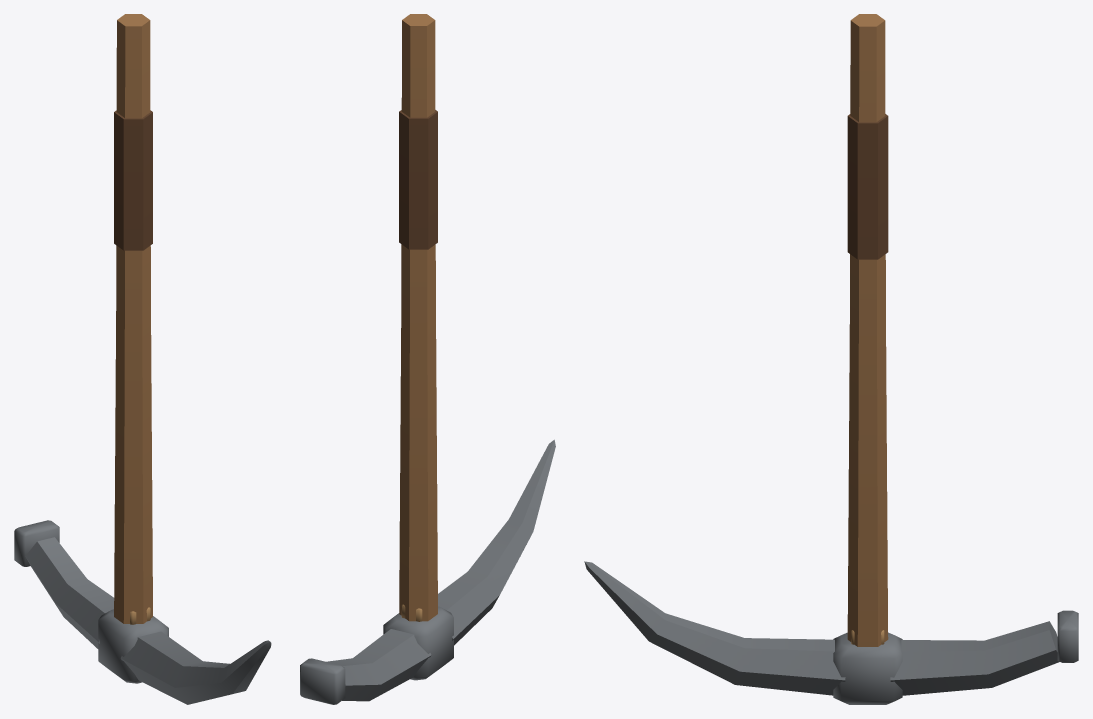
Rendered from pickaxe-1.glb.
The picture shows the model from 3 angles, left to right: view 1: azimuth 30°, elevation 25°; view 2: azimuth 150°, elevation 25°; view 3: azimuth 270°, elevation 25°; orthographic projection. The views are drawn at different scales.
Parts seen in each view (by area): view 1: pickaxe-1; view 2: pickaxe-1; view 3: pickaxe-1.
Boxes of the visible parts, <box> form: pickaxe-1: <box>14,14,271,704</box>; pickaxe-1: <box>300,14,555,704</box>; pickaxe-1: <box>584,14,1078,704</box>.
Bounding box in the file's own units: 0.038 × 0.496 × 0.3284.
